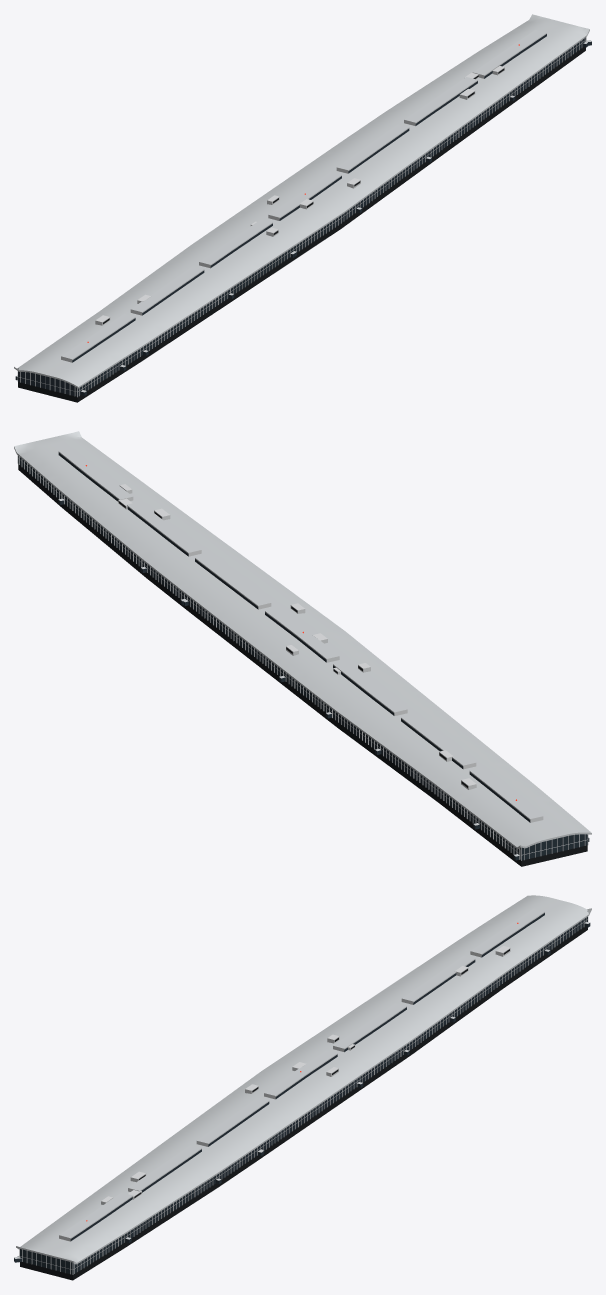
Rendered from OMDB_concourse_c.glb.
The picture shows the model from 3 angles, top to bottom: view 1: azimuth 90°, elevation 25°; view 2: azimuth 150°, elevation 25°; view 3: azimuth 270°, elevation 25°; orthographic projection. The views are drawn at different scales.
Visible parts, largest first — view 1: ConcourseC_Building, ConcourseC_Structure; view 2: ConcourseC_Building, ConcourseC_Structure; view 3: ConcourseC_Building, ConcourseC_Structure.
Part boxes in pixels (left/top/right/bottom): ConcourseC_Building: left=14, top=14, right=589, bottom=402; ConcourseC_Structure: left=15, top=29, right=591, bottom=397; ConcourseC_Building: left=14, top=431, right=591, bottom=866; ConcourseC_Structure: left=17, top=448, right=589, bottom=860; ConcourseC_Building: left=16, top=895, right=591, bottom=1280; ConcourseC_Structure: left=14, top=908, right=590, bottom=1274.
Size of what is drawn, in the model's own units: 705 by 23.6 by 467.
